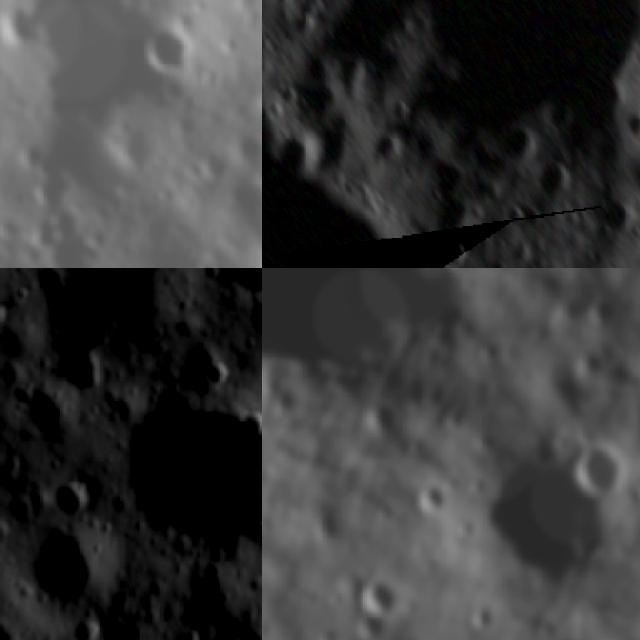crater: (111, 380, 262, 563), (262, 268, 485, 377), (456, 448, 618, 587), (22, 513, 132, 616), (49, 268, 198, 339), (15, 376, 86, 444), (570, 436, 624, 496), (143, 20, 196, 78), (271, 129, 326, 183), (530, 155, 570, 208), (360, 570, 402, 616), (594, 197, 635, 243), (31, 168, 74, 210), (52, 478, 92, 520), (413, 478, 453, 520), (361, 395, 402, 434), (572, 348, 610, 384), (489, 200, 526, 236), (354, 606, 394, 638), (220, 268, 262, 298), (589, 290, 616, 333), (370, 132, 404, 166), (433, 240, 472, 268), (471, 600, 505, 630), (621, 101, 640, 154), (203, 356, 234, 386), (390, 98, 416, 121), (534, 611, 556, 635), (0, 302, 11, 326)
